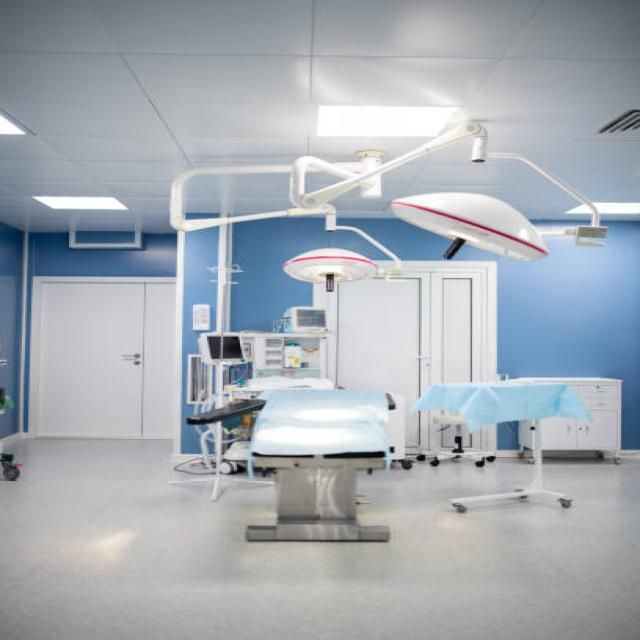Monitor: (195, 319, 252, 366), (276, 297, 342, 336)
bed: (244, 375, 401, 558)
tools_table: (408, 368, 592, 520)
